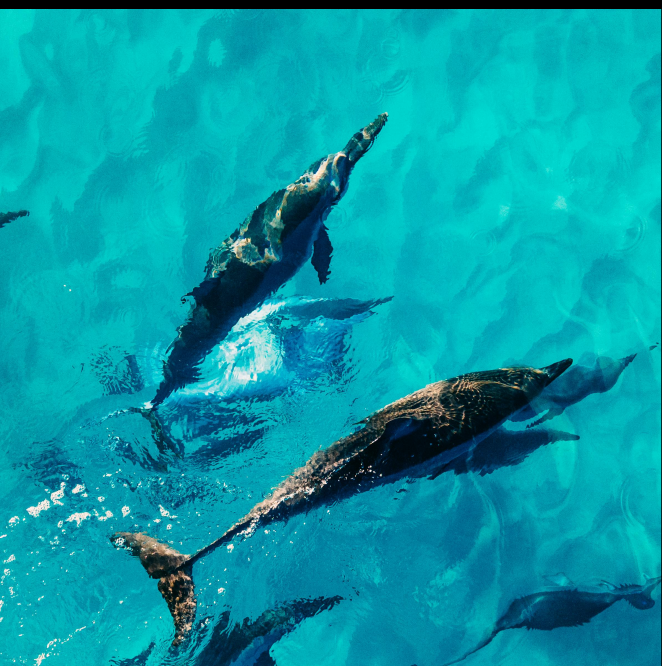dolphin: (109, 355, 574, 656), (101, 112, 392, 452)
